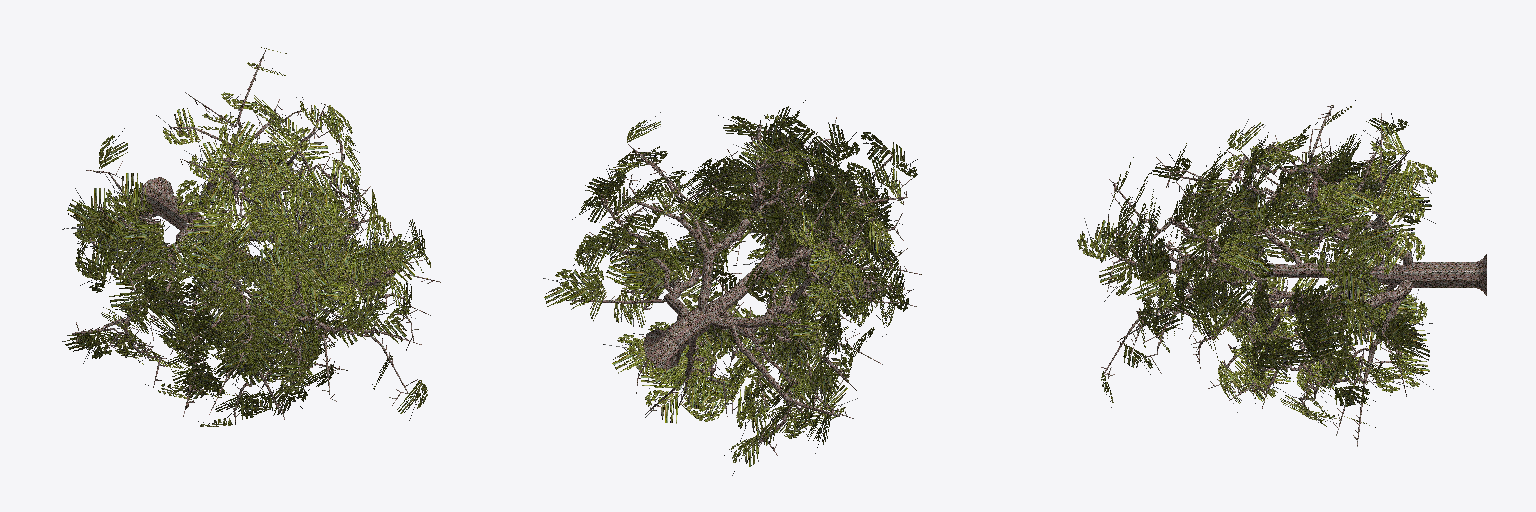
The picture shows the model from 3 angles: view 1: azimuth 30°, elevation 25°; view 2: azimuth 150°, elevation 25°; view 3: azimuth 270°, elevation 25°; orthographic projection.
Parts seen in each view (by area): view 1: Leaves, Trunk; view 2: Leaves, Trunk; view 3: Leaves, Trunk.
Part boxes in pixels (bbox=[...]): Leaves: bbox=[62, 47, 430, 426]; Trunk: bbox=[72, 50, 440, 424]; Leaves: bbox=[543, 100, 917, 475]; Trunk: bbox=[566, 117, 921, 455]; Leaves: bbox=[1077, 100, 1437, 427]; Trunk: bbox=[1099, 105, 1486, 446].
Bounding box in the file's own units: 9.52 × 8.99 × 10.63.
Materials: 2 (2 with a texture image).